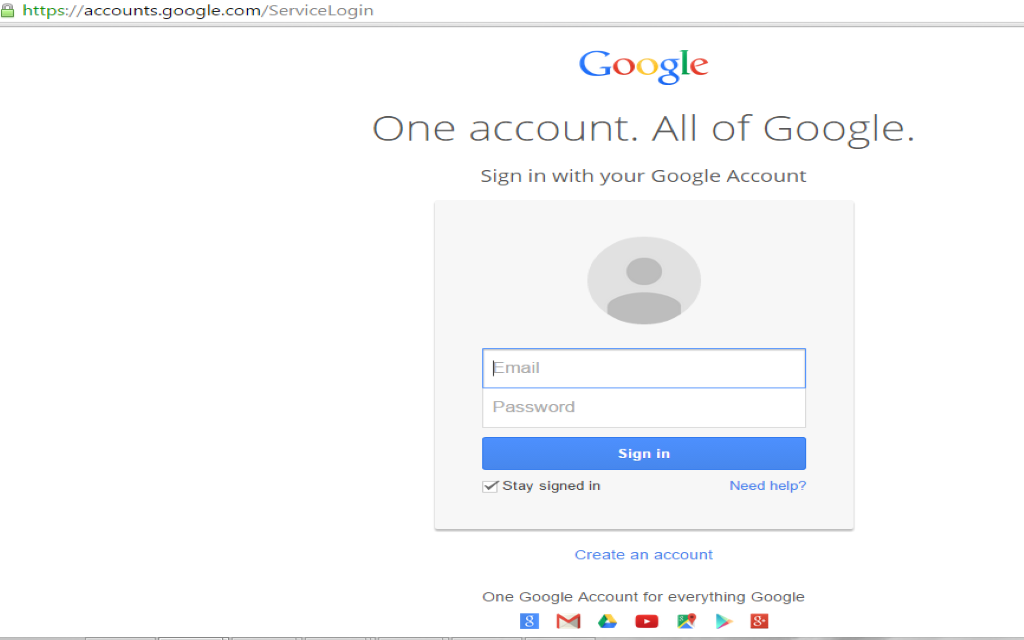button: (482, 435, 807, 470)
button_SignIn: (482, 433, 807, 472)
checkbox: (484, 479, 498, 493)
label_SignIn: (613, 444, 672, 462)
label_email: (493, 358, 545, 379)
label_password: (491, 397, 578, 416)
textbox: (481, 389, 807, 429), (482, 348, 806, 388)
textbox_Email: (483, 348, 807, 388)
textbox_Password: (483, 390, 806, 430)
